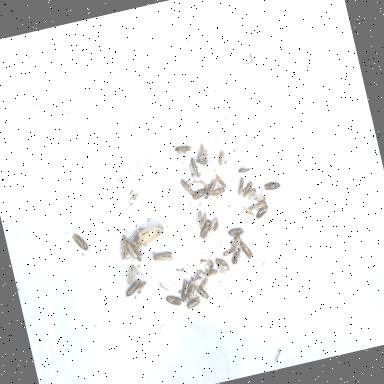pbw: (258, 168, 290, 198), (149, 242, 179, 268), (68, 228, 93, 256), (120, 275, 146, 299), (192, 140, 214, 168), (194, 217, 218, 242), (176, 277, 196, 306), (222, 220, 248, 241), (122, 245, 146, 267), (121, 263, 140, 288), (238, 237, 255, 263), (202, 176, 222, 198), (227, 232, 246, 255), (178, 176, 196, 200), (252, 201, 274, 220), (238, 201, 258, 221), (204, 215, 223, 236), (188, 154, 203, 180), (124, 238, 140, 262), (164, 292, 184, 311), (173, 140, 194, 158), (190, 184, 212, 201), (228, 246, 245, 268), (184, 282, 202, 302), (193, 282, 211, 302), (184, 294, 206, 310), (195, 210, 212, 230), (240, 184, 260, 201), (214, 171, 231, 191), (208, 184, 228, 200), (234, 176, 248, 198), (215, 148, 230, 168), (234, 162, 252, 178), (214, 254, 230, 271), (252, 198, 271, 212), (196, 274, 212, 290), (216, 258, 228, 278), (135, 279, 150, 294), (220, 246, 238, 258), (188, 273, 204, 285), (251, 192, 267, 204), (205, 268, 217, 280)
